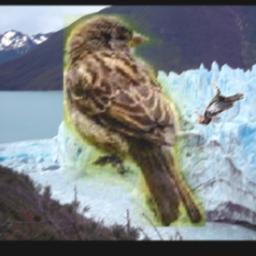Crow: (194, 82, 245, 126)
Sparrow: (63, 14, 205, 227)
